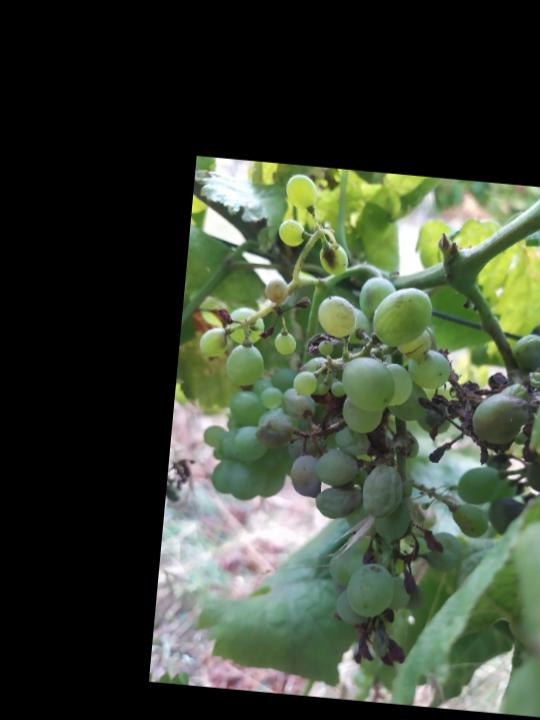grape: (232, 265, 540, 681)
